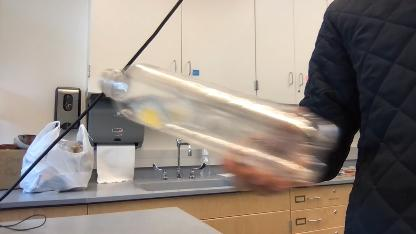Plastic Bottle: (98, 65, 334, 189)
